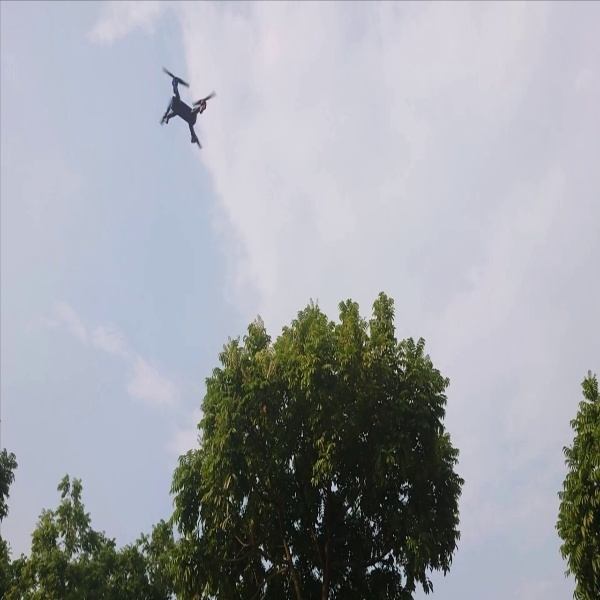drone: (149, 58, 220, 152)
